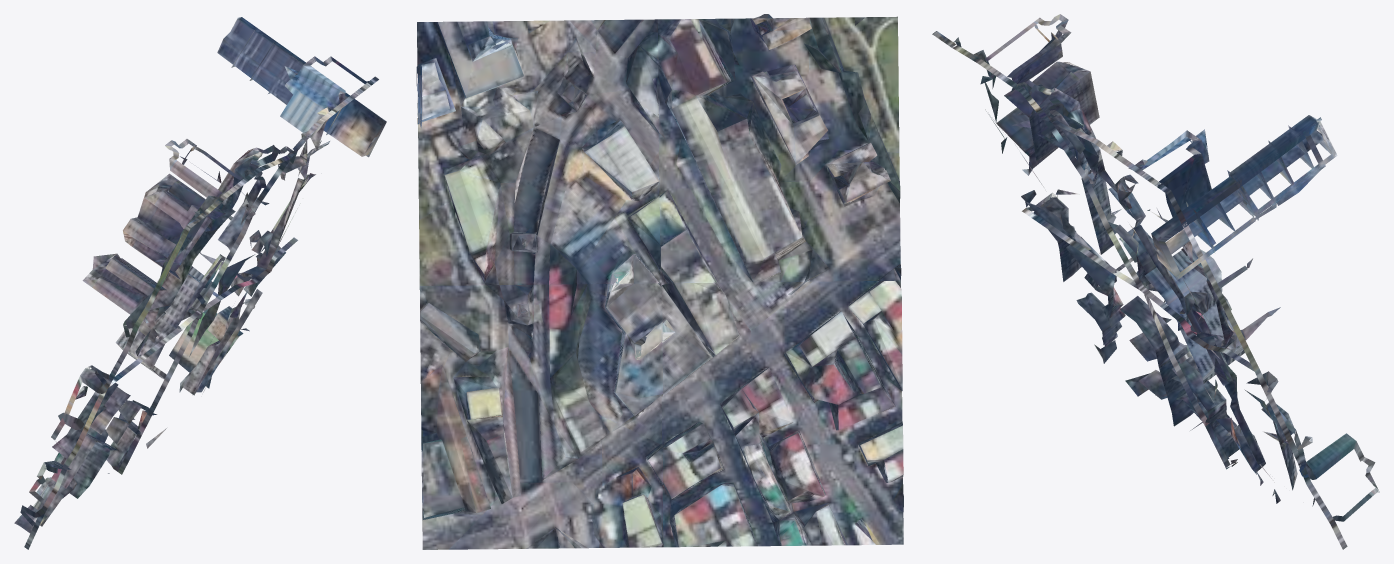
3 renders of one model, left to right at view 1: azimuth 30°, elevation 25°; view 2: azimuth 150°, elevation 25°; view 3: azimuth 270°, elevation 25°, orthographic. The views are drawn at different scales.
Bounding box in the file's own units: 310 × 304 × 279.
Materials: 1 (1 with a texture image).
